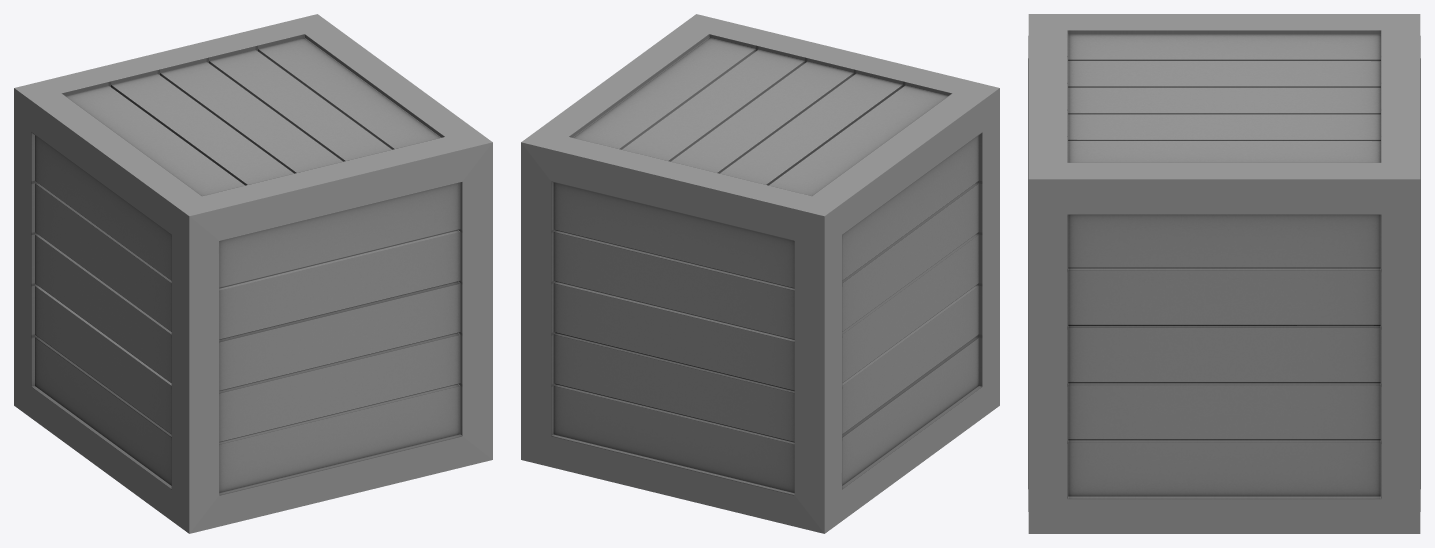
3 renders of one model, left to right at view 1: azimuth 30°, elevation 25°; view 2: azimuth 150°, elevation 25°; view 3: azimuth 270°, elevation 25°, orthographic. The views are drawn at different scales.
Visible parts, largest first — view 1: Box_LOD0; view 2: Box_LOD0; view 3: Box_LOD0.
Part boxes in pixels (box(x1,y1,x2,y2)): Box_LOD0: box(14, 14, 492, 533); Box_LOD0: box(521, 14, 999, 533); Box_LOD0: box(1028, 14, 1420, 533).
Size of what is drawn, in the model's own units: 93.4 by 93.4 by 93.76.
